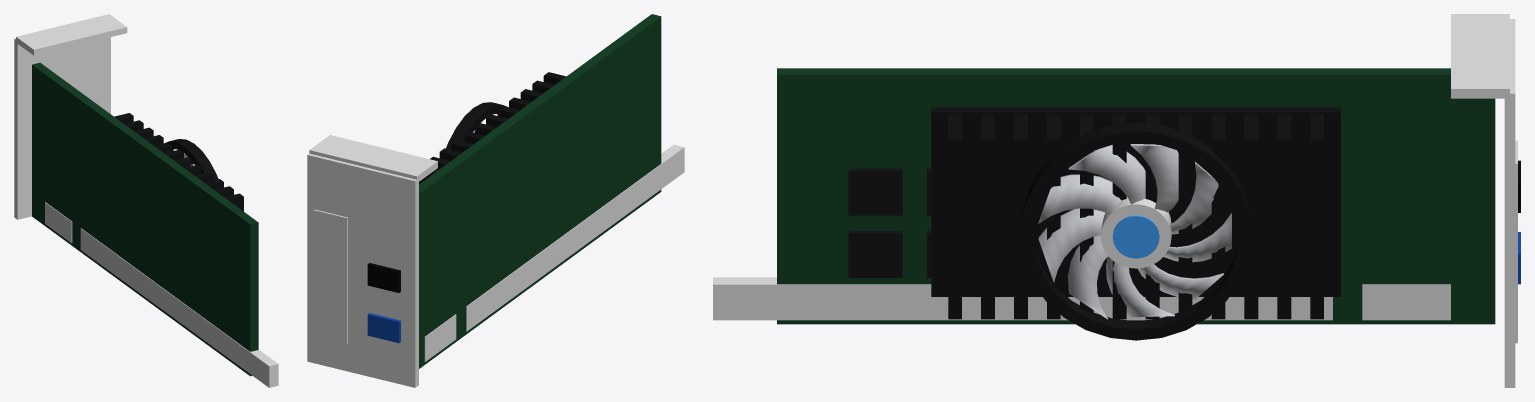
File: hw_gpu_gt1030.glb
3 renders of one model, left to right at view 1: azimuth 30°, elevation 25°; view 2: azimuth 150°, elevation 25°; view 3: azimuth 270°, elevation 25°, orthographic. The views are drawn at different scales.
Parts seen in each view (by area): view 1: Body; view 2: Body; view 3: Body, Rotor_X_0.
Part boxes in pixels (x1,y1,x2,y2): Body: [14, 14, 278, 387]; Body: [307, 14, 684, 387]; Body: [713, 14, 1520, 387]; Rotor_X_0: [1038, 144, 1231, 319].
Size of the model in its own units: 0.036 by 0.0671 by 0.1642.
